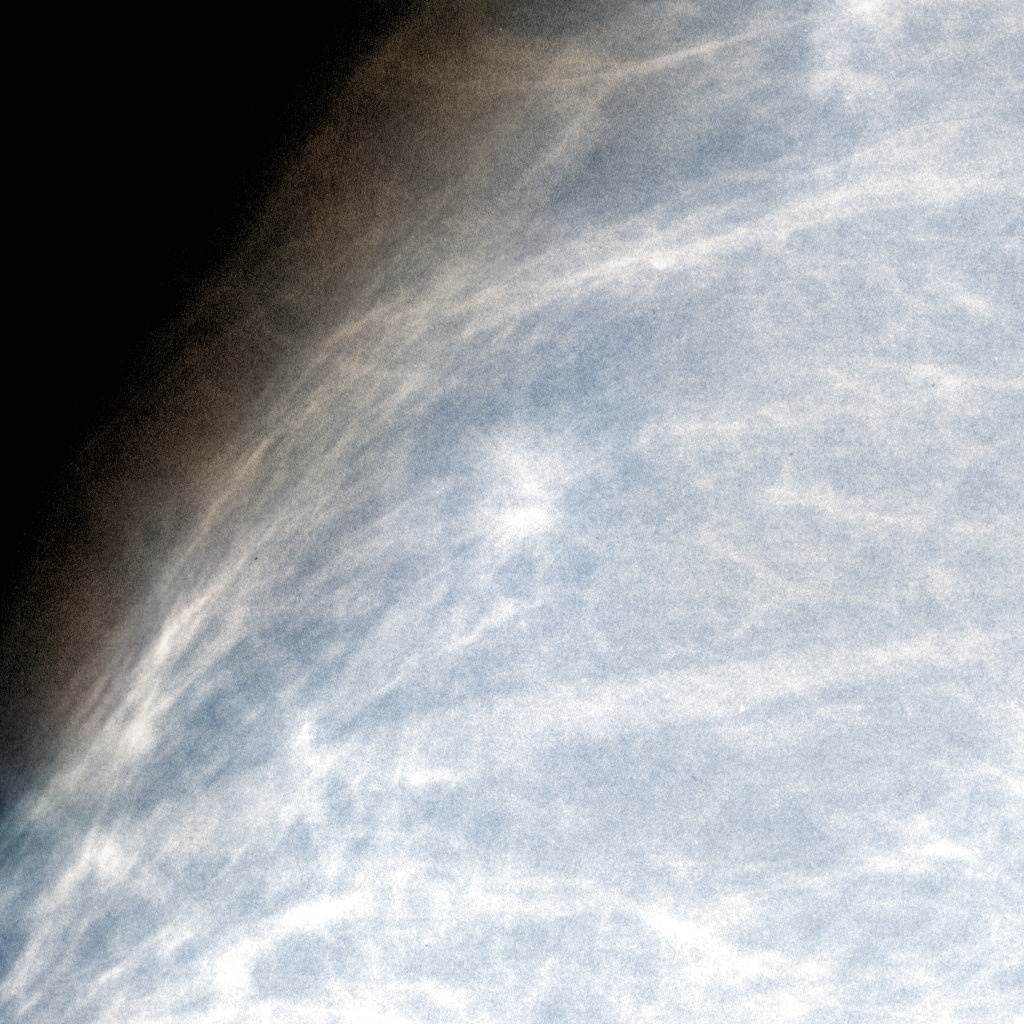tumor: (423, 406, 601, 618)
